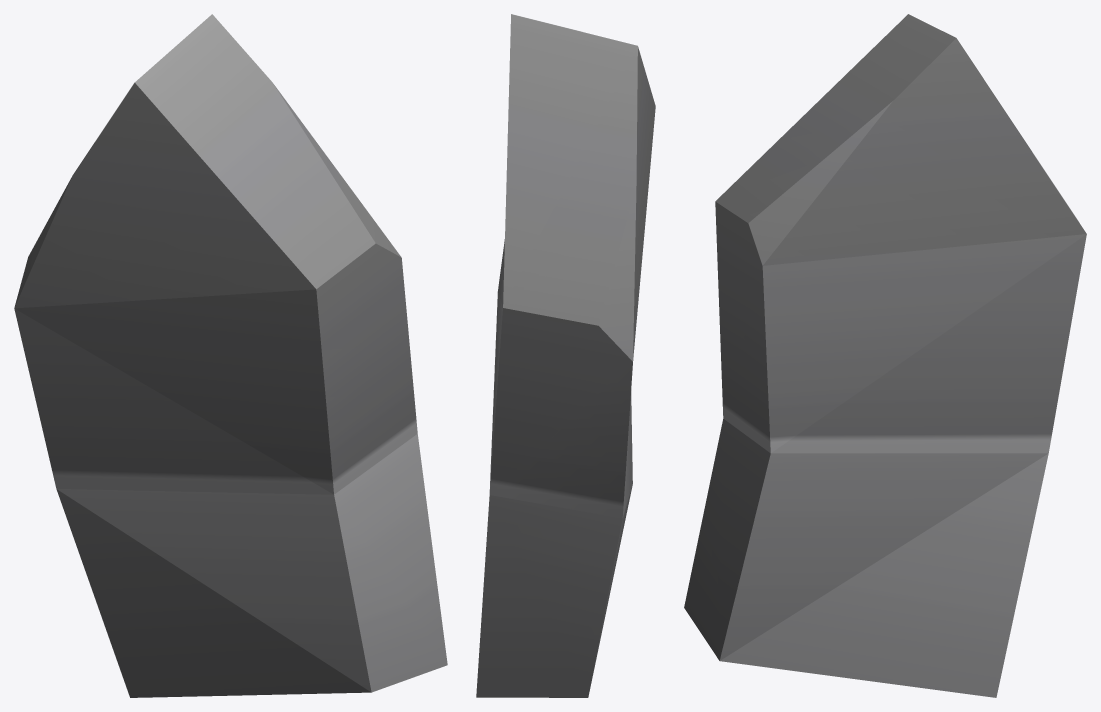
File: ea_grave_stone_mini_01c_pre__28__lev1.glb
3 views of the same model, side by side, from view 1: azimuth 30°, elevation 25°; view 2: azimuth 150°, elevation 25°; view 3: azimuth 270°, elevation 25° (orthographic). The views are drawn at different scales.
Parts seen in each view (by area): view 1: ea_grave_stone_mini_01c_pre__28__lev1; view 2: ea_grave_stone_mini_01c_pre__28__lev1; view 3: ea_grave_stone_mini_01c_pre__28__lev1.
Boxes of the visible parts, bbox=[...] form: ea_grave_stone_mini_01c_pre__28__lev1: bbox=[14, 14, 447, 697]; ea_grave_stone_mini_01c_pre__28__lev1: bbox=[476, 14, 655, 697]; ea_grave_stone_mini_01c_pre__28__lev1: bbox=[684, 14, 1086, 697].
Size of the model in its own units: 0.5577 by 1.32 by 0.7361.
Materials: 1 (1 with a texture image).
